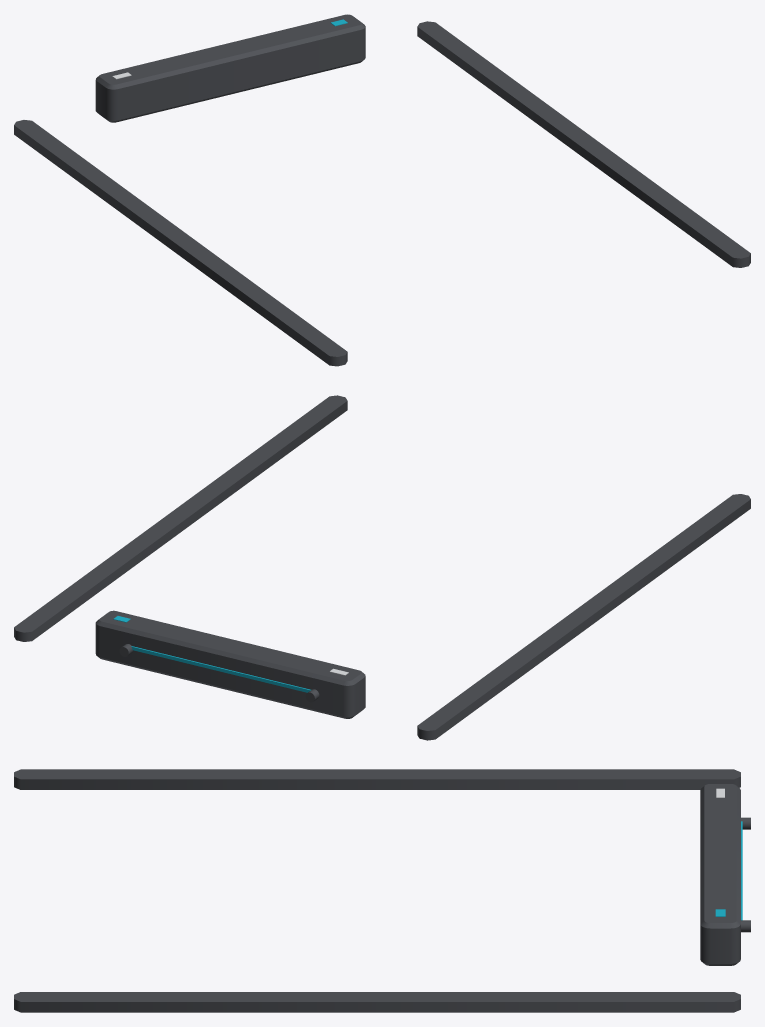
Rendered from c3_mount.obj.
3 renders of one model, top to bottom at view 1: azimuth 30°, elevation 25°; view 2: azimuth 150°, elevation 25°; view 3: azimuth 270°, elevation 25°, orthographic. The views are drawn at different scales.
Visible parts, largest first — view 1: c3_mount; view 2: c3_mount; view 3: c3_mount.
Boxes of the visible parts, bbox=[...] form: c3_mount: bbox=[14, 14, 750, 366]; c3_mount: bbox=[14, 395, 750, 740]; c3_mount: bbox=[14, 769, 750, 1012].
Bounding box in the file's own units: 1.63 × 0.142 × 2.18.
